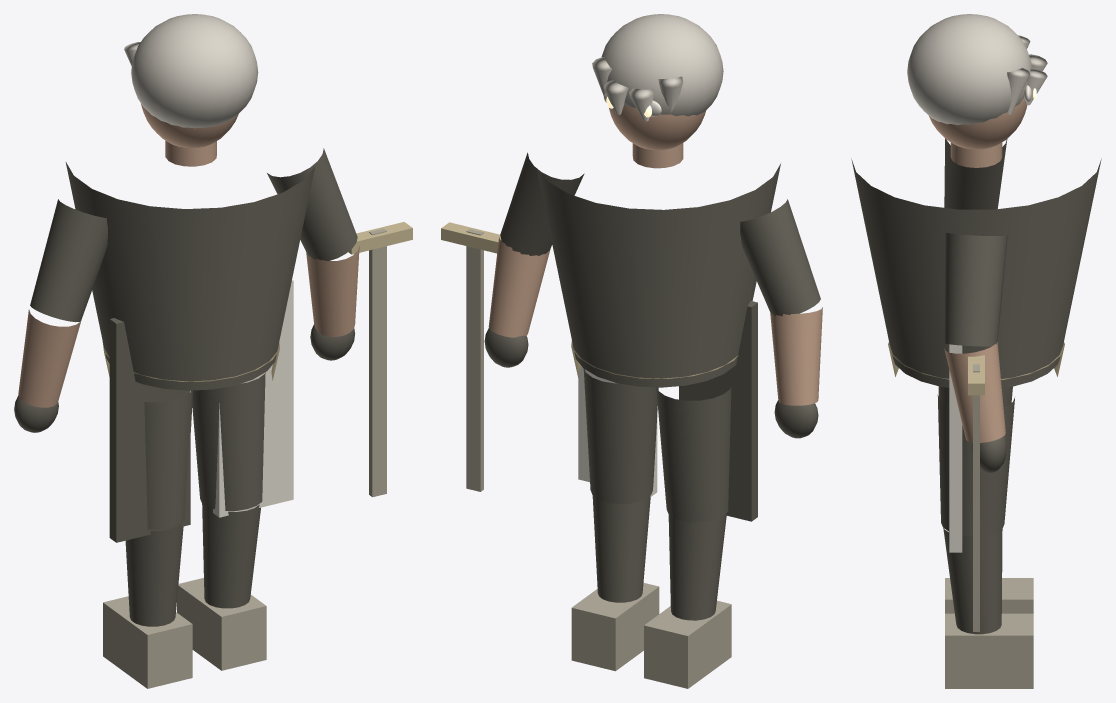
File: eitan-procedural-v1.glb
3 renders of one model, left to right at view 1: azimuth 30°, elevation 25°; view 2: azimuth 150°, elevation 25°; view 3: azimuth 270°, elevation 25°, orthographic. The views are drawn at different scales.
Visible parts, largest first — view 1: Outfit_Torso, Hair_Cap, Outfit_CoatTail_L, Body_Thigh_R, Body_UpperArm_L, Outfit_CoatTail_R, Outfit_Boot_L, Body_Thigh_L, Outfit_Boot_R, Body_Shin_R, Body_Shin_L, Weapon_SwordBlade (+8 smaller); view 2: Outfit_Torso, Hair_Cap, Body_Thigh_L, Body_Thigh_R, Outfit_CoatTail_L, Body_UpperArm_L, Outfit_Boot_L, Outfit_Boot_R, Body_Shin_R, Body_Shin_L, Weapon_SwordBlade, Body_Forearm_L (+8 smaller); view 3: Outfit_Torso, Hair_Cap, Body_UpperArm_R, Outfit_Boot_R, Body_Thigh_R, Body_Shin_R, Body_Forearm_R, Body_UpperArm_L, Outfit_CoatTail_R, Body_Head, Weapon_SwordBlade, Outfit_Boot_L (+5 smaller).
Part boxes in pixels (<box>): Outfit_Torso: <box>65,162,315,390</box>; Hair_Cap: <box>131,14,258,128</box>; Outfit_CoatTail_L: <box>109,318,190,542</box>; Body_Thigh_R: <box>191,372,265,510</box>; Body_UpperArm_L: <box>30,199,107,322</box>; Outfit_CoatTail_R: <box>213,280,293,517</box>; Outfit_Boot_L: <box>103,596,192,688</box>; Body_Thigh_L: <box>144,390,192,529</box>; Outfit_Boot_R: <box>177,578,266,670</box>; Body_Shin_R: <box>202,503,260,608</box>; Body_Shin_L: <box>125,523,183,626</box>; Weapon_SwordBlade: <box>369,228,386,497</box>; Outfit_Torso: <box>536,163,780,387</box>; Hair_Cap: <box>601,14,723,116</box>; Body_Thigh_L: <box>656,386,731,522</box>; Body_Thigh_R: <box>583,369,658,503</box>; Outfit_CoatTail_L: <box>679,301,757,521</box>; Body_UpperArm_L: <box>740,199,820,316</box>; Outfit_Boot_L: <box>644,600,731,688</box>; Outfit_Boot_R: <box>571,583,659,671</box>; Body_Shin_R: <box>592,495,650,602</box>; Body_Shin_L: <box>668,514,726,620</box>; Weapon_SwordBlade: <box>466,229,483,491</box>; Body_Forearm_L: <box>770,307,822,405</box>; Outfit_Torso: <box>851,158,1101,387</box>; Hair_Cap: <box>907,14,1031,125</box>; Body_UpperArm_R: <box>944,232,1007,346</box>; Outfit_Boot_R: <box>945,613,1033,688</box>; Body_Thigh_R: <box>937,395,1014,536</box>; Body_Shin_R: <box>943,528,1002,634</box>; Body_Forearm_R: <box>944,341,1005,442</box>; Body_UpperArm_L: <box>944,138,1007,209</box>; Outfit_CoatTail_R: <box>949,344,962,552</box>; Body_Head: <box>929,98,1027,149</box>; Weapon_SwordBlade: <box>973,364,979,631</box>; Outfit_Boot_L: <box>945,578,1033,613</box>.
Size of the model in its own units: 1.18 by 1.88 by 0.6685.
